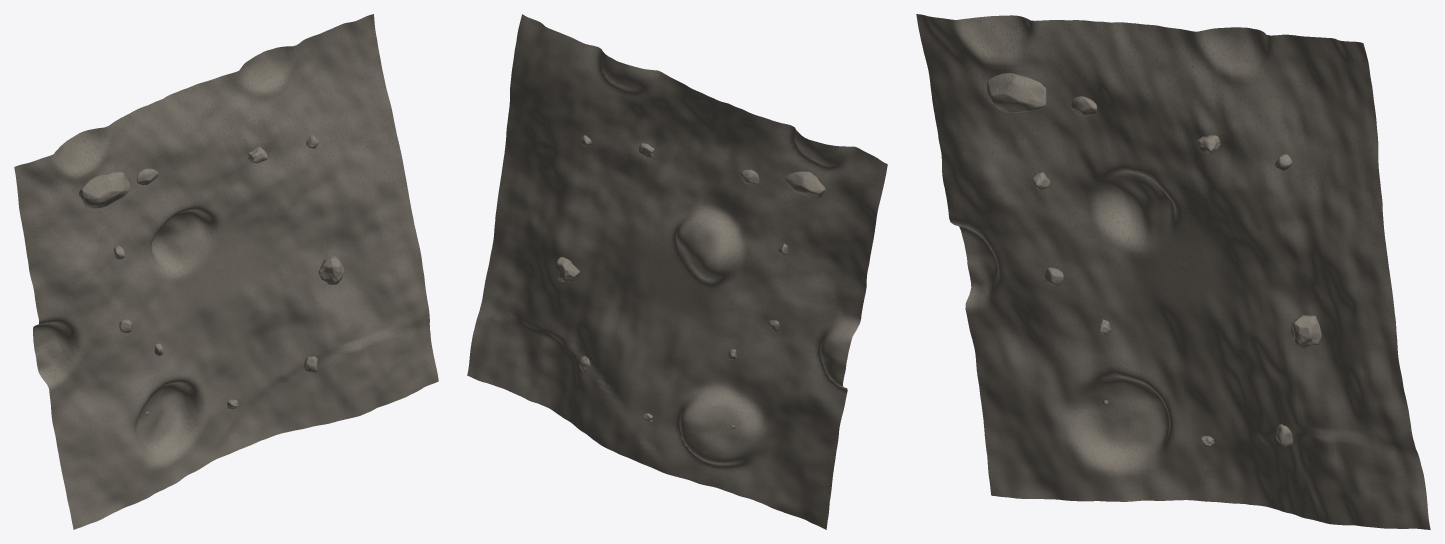
The model's file is moon_test.obj.
The picture shows the model from 3 angles, left to right: view 1: azimuth 30°, elevation 25°; view 2: azimuth 150°, elevation 25°; view 3: azimuth 330°, elevation 25°; orthographic projection. The views are drawn at different scales.
Parts seen in each view (by area): view 1: MoonSurface; view 2: MoonSurface; view 3: MoonSurface.
Boxes of the visible parts, x1,y1,x2,y2 form: MoonSurface: (14,14,438,529); MoonSurface: (467,14,887,529); MoonSurface: (916,14,1430,529).
Bounding box in the file's own units: 11.51 × 11.51 × 1.52.
